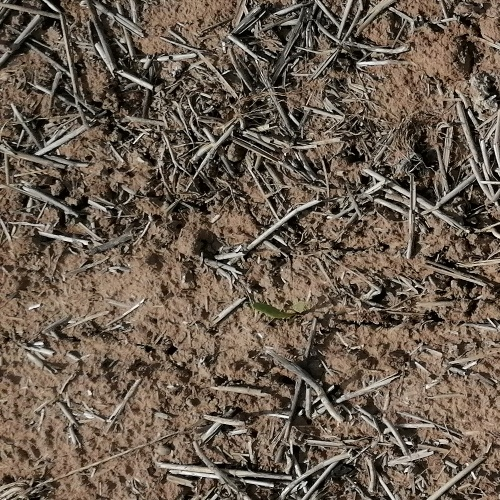beet: (252, 302, 304, 319)
